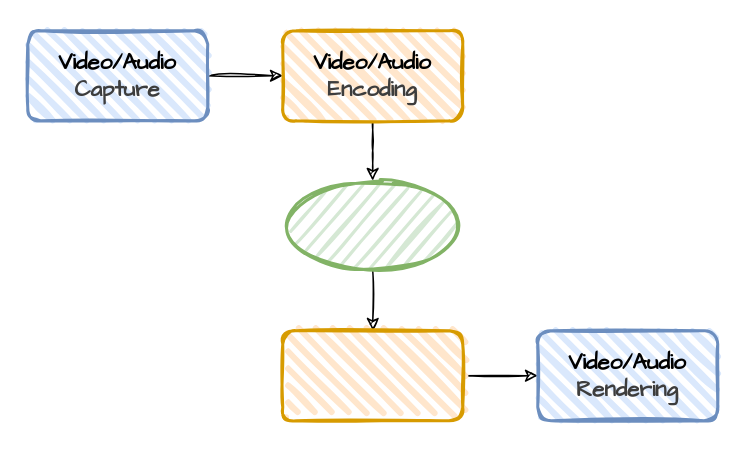
The diagram is 744 pixels wide and 450 high, and some of its shapes have lost their labels. The shapes that lost their labels are listed below. From the top down, each one's centre as x and y in pixels, then its label:
At pixel 372 225: "Network Transmission".
At pixel 372 375: "Video/Audio Decode".
